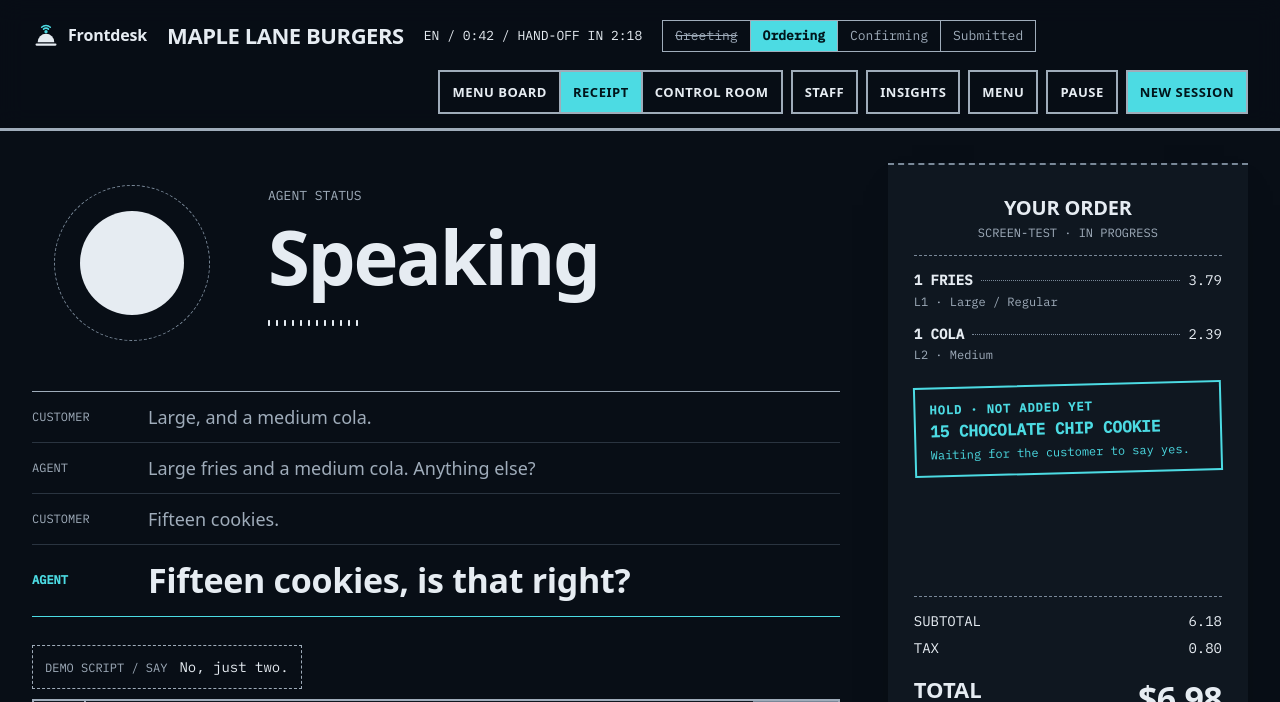
receipt view › offers the next line of the demo script, which fills the box
The width and height of the screenshot is (1280, 702).
Click the button "Demo script / say No, just two." at [167, 667], box [32,645,302,689]
(page scrolled)
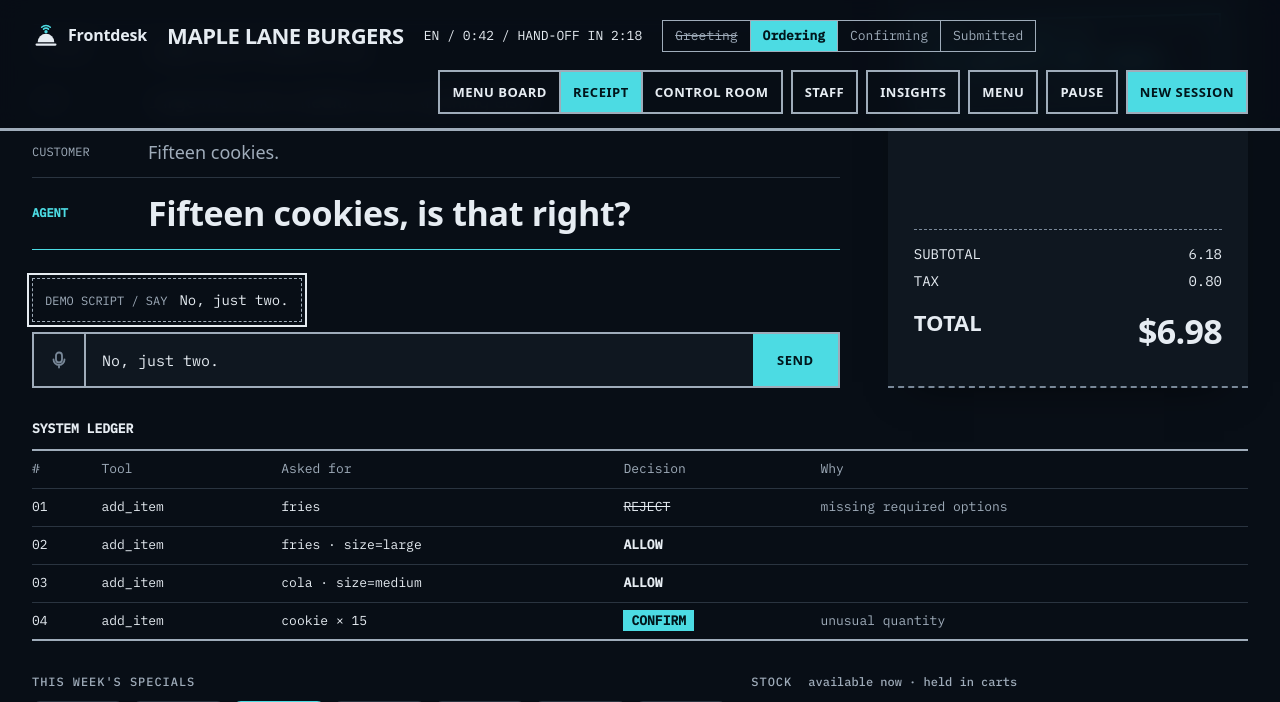
Expected: the field named "what the customer says" holds "No, just two.", [86,334,753,386]
